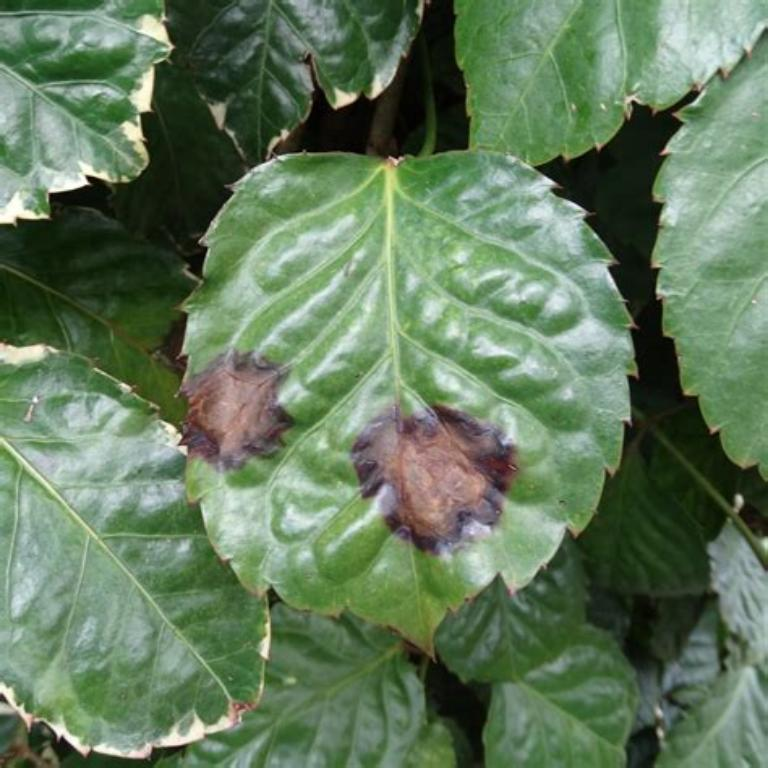blight: (346, 379, 538, 567), (173, 338, 323, 476)
